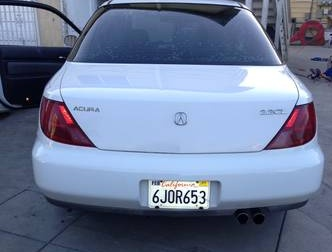acura: (1, 1, 332, 227)
